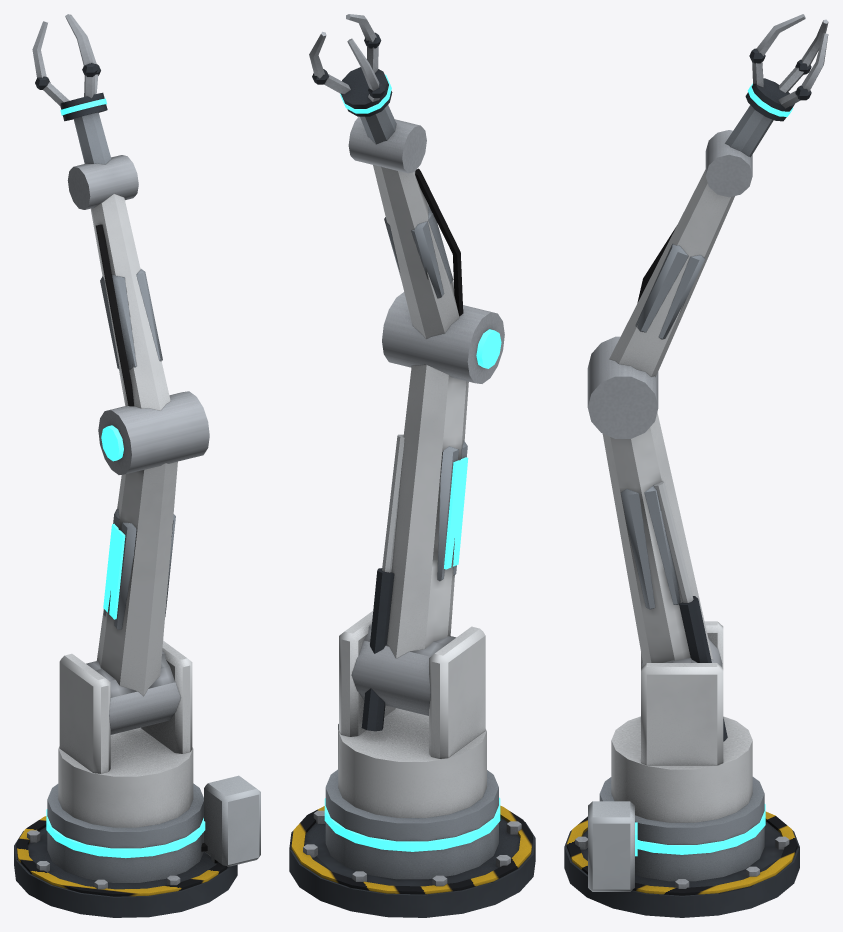
File: brazo_mecanico_hangar.fbx
3 renders of one model, left to right at view 1: azimuth 30°, elevation 25°; view 2: azimuth 150°, elevation 25°; view 3: azimuth 270°, elevation 25°, orthographic. The views are drawn at different scales.
Parts seen in each view (by area): view 1: brazo_mecanico_hangar, brazo_mecanico_hangar_torreta, brazo_mecanico_hangar_brazo_inferior, brazo_mecanico_hangar_brazo_superior, brazo_mecanico_hangar_neon, brazo_mecanico_hangar_pinza, brazo_mecanico_hangar_muneca; view 2: brazo_mecanico_hangar_torreta, brazo_mecanico_hangar_brazo_inferior, brazo_mecanico_hangar, brazo_mecanico_hangar_brazo_superior, brazo_mecanico_hangar_neon, brazo_mecanico_hangar_pinza, brazo_mecanico_hangar_muneca; view 3: brazo_mecanico_hangar, brazo_mecanico_hangar_torreta, brazo_mecanico_hangar_brazo_inferior, brazo_mecanico_hangar_brazo_superior, brazo_mecanico_hangar_pinza, brazo_mecanico_hangar_muneca, brazo_mecanico_hangar_neon.
Part boxes in pixels (x1,y1,x2,y2): brazo_mecanico_hangar: (14, 775, 260, 917); brazo_mecanico_hangar_torreta: (58, 640, 193, 827); brazo_mecanico_hangar_brazo_inferior: (96, 391, 209, 696); brazo_mecanico_hangar_brazo_superior: (67, 155, 170, 410); brazo_mecanico_hangar_neon: (46, 98, 205, 858); brazo_mecanico_hangar_pinza: (32, 14, 100, 106); brazo_mecanico_hangar_muneca: (60, 92, 111, 164); brazo_mecanico_hangar_torreta: (338, 568, 486, 817); brazo_mecanico_hangar_brazo_inferior: (382, 292, 504, 658); brazo_mecanico_hangar: (289, 724, 535, 917); brazo_mecanico_hangar_brazo_superior: (348, 116, 463, 338); brazo_mecanico_hangar_neon: (324, 74, 501, 851); brazo_mecanico_hangar_pinza: (309, 14, 384, 101); brazo_mecanico_hangar_muneca: (341, 67, 396, 144); brazo_mecanico_hangar: (564, 777, 799, 917); brazo_mecanico_hangar_torreta: (611, 596, 752, 822); brazo_mecanico_hangar_brazo_inferior: (587, 336, 713, 665); brazo_mecanico_hangar_brazo_superior: (609, 130, 752, 376); brazo_mecanico_hangar_pinza: (749, 14, 828, 108); brazo_mecanico_hangar_muneca: (725, 78, 794, 156); brazo_mecanico_hangar_neon: (637, 83, 793, 854).
Bounding box in the file's own units: 2 × 8 × 2.24.
Materials: 2 (2 with a texture image).
